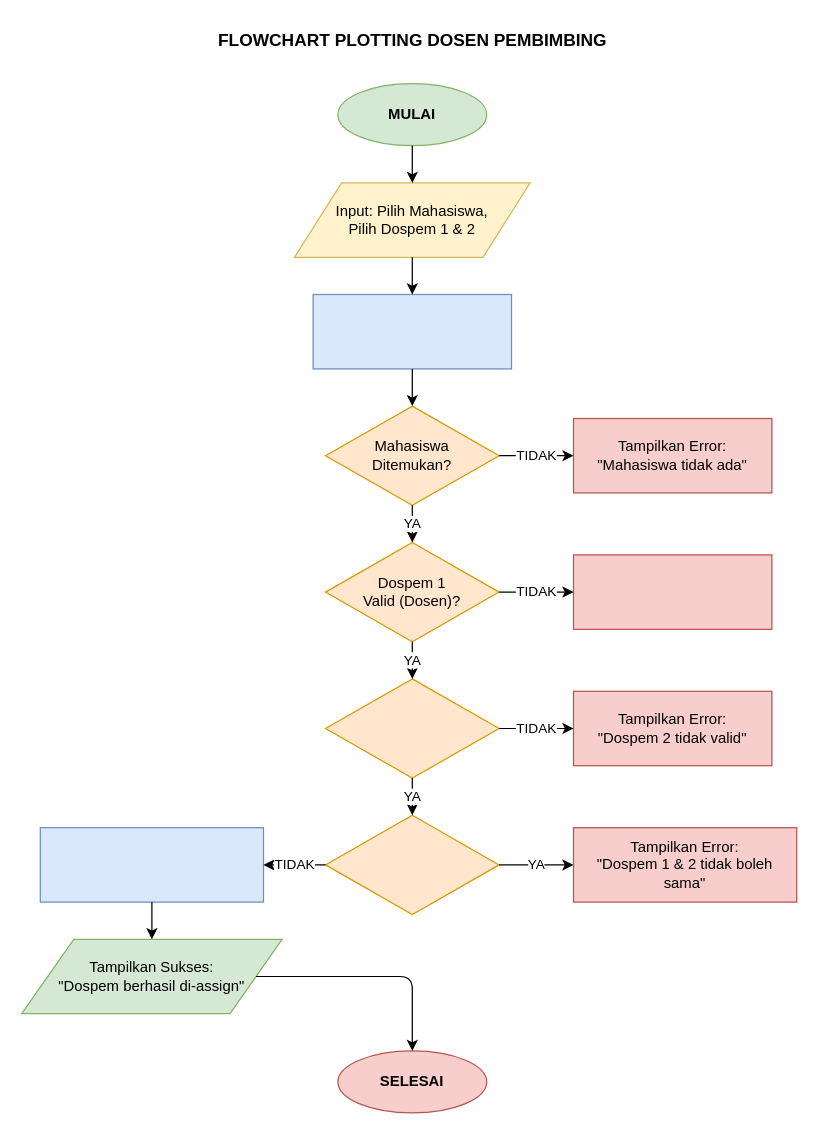
Some shapes in this 818 by 1135 pixel diagram are drawn without their labels. The centre of each missing label's shape, as x and y in pixels:
Cari Data Mahasiswa di Database: (x=412, y=331)
Dospem 1 == Dospem 2?: (x=411, y=864)
Dospem 2 Valid (Dosen)?: (x=411, y=728)
Tampilkan Error: "Dospem 1 tidak valid": (x=672, y=591)
Update Data Mahasiswa (Set dospem_1 & dospem_2): (x=151, y=864)
